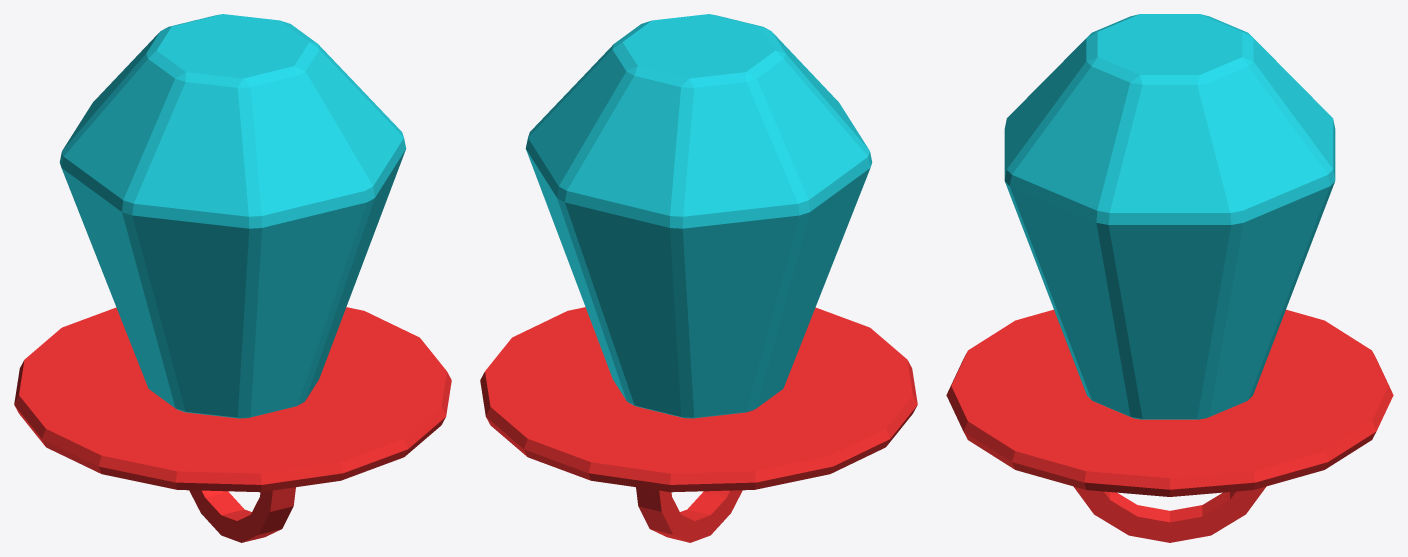
The model's file is 0c762405-4a24-4cef-b444-92d0e8e3c202.glb.
3 renders of one model, left to right at view 1: azimuth 30°, elevation 25°; view 2: azimuth 150°, elevation 25°; view 3: azimuth 270°, elevation 25°, orthographic.
Visible parts, largest first — view 1: Ring_Pop; view 2: Ring_Pop; view 3: Ring_Pop.
Boxes of the visible parts, x1,y1,x2,y2 form: Ring_Pop: (14, 14, 451, 542); Ring_Pop: (480, 14, 917, 542); Ring_Pop: (946, 14, 1393, 542).
Bounding box in the file's own units: 25.92 × 31.5 × 25.92.
Materials: 1 (1 with a texture image).
